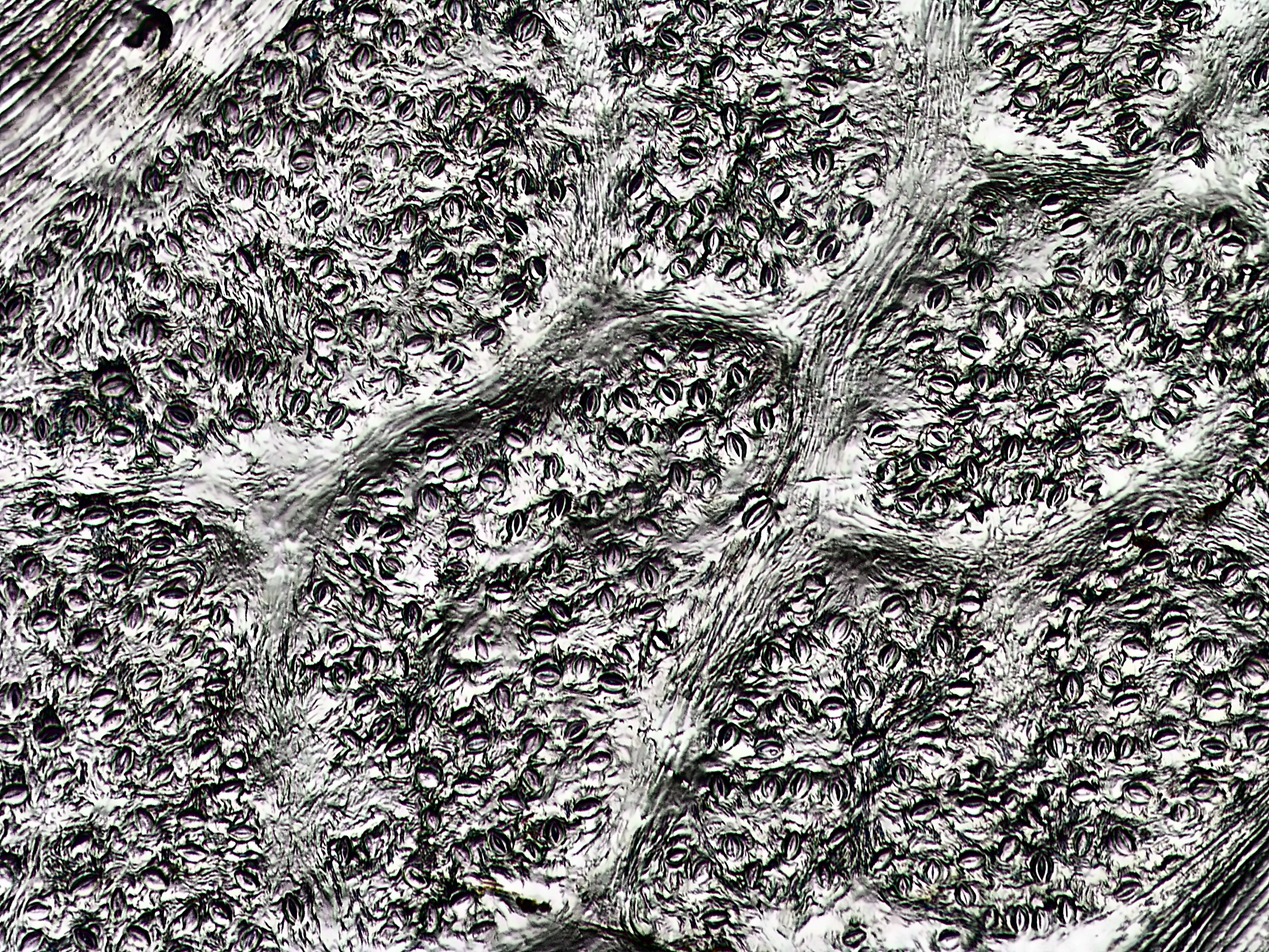stomata: (1056, 671, 1085, 705), (1170, 131, 1205, 159), (743, 499, 773, 529), (288, 24, 319, 53), (925, 280, 950, 315), (1192, 635, 1220, 666), (80, 504, 114, 529), (676, 420, 710, 445), (75, 626, 105, 654), (637, 561, 664, 592), (282, 890, 306, 924), (875, 641, 903, 670), (981, 309, 1007, 340), (1232, 468, 1258, 499), (69, 871, 100, 897), (32, 499, 64, 524), (723, 432, 748, 464), (359, 585, 384, 617), (1031, 851, 1055, 884), (929, 231, 958, 258), (572, 795, 603, 820), (1059, 215, 1094, 237), (1102, 524, 1134, 548), (209, 896, 232, 929), (668, 461, 691, 494), (382, 267, 410, 294), (1056, 64, 1086, 89), (790, 633, 815, 663), (720, 102, 742, 136), (902, 329, 936, 351), (618, 246, 642, 277), (38, 725, 69, 749), (128, 503, 160, 526), (614, 386, 640, 414), (310, 580, 336, 608), (604, 539, 626, 572), (752, 741, 785, 763), (817, 103, 846, 128), (519, 13, 543, 43), (179, 516, 203, 546), (621, 44, 644, 75), (807, 72, 838, 95), (692, 379, 715, 410), (852, 735, 883, 758), (813, 144, 835, 176), (358, 646, 380, 678), (465, 82, 491, 109), (655, 378, 681, 405), (957, 587, 985, 612), (1013, 56, 1042, 80), (969, 263, 993, 292), (1167, 227, 1191, 256), (868, 420, 897, 444), (1204, 309, 1225, 342), (176, 843, 209, 864), (420, 900, 441, 933), (829, 611, 850, 644), (878, 595, 909, 617), (790, 768, 812, 799), (708, 52, 733, 79), (1127, 127, 1154, 152), (31, 605, 56, 632), (233, 867, 260, 892), (165, 404, 193, 428), (237, 924, 261, 952), (633, 513, 661, 537), (1010, 903, 1031, 935), (441, 195, 464, 224), (144, 534, 173, 557), (446, 527, 475, 550), (350, 3, 380, 25), (1003, 362, 1025, 392), (1028, 402, 1061, 422), (209, 600, 229, 633), (423, 435, 453, 457), (1046, 730, 1068, 760), (668, 101, 694, 126), (1013, 86, 1038, 112), (1020, 333, 1047, 357), (1, 782, 28, 806), (141, 866, 168, 890), (350, 44, 373, 72), (1203, 359, 1226, 387), (97, 563, 125, 586), (178, 807, 206, 830), (603, 425, 626, 453), (762, 644, 785, 672), (997, 835, 1020, 863), (1112, 825, 1135, 853), (402, 335, 434, 355), (1145, 268, 1165, 300), (581, 386, 601, 418), (191, 131, 213, 160), (236, 246, 258, 275), (100, 377, 130, 398), (1059, 348, 1089, 369), (1022, 472, 1043, 502), (421, 485, 442, 515), (484, 580, 514, 601), (1092, 733, 1113, 763), (1203, 686, 1233, 707), (740, 25, 765, 50), (1123, 318, 1148, 343), (124, 925, 149, 950), (501, 281, 527, 305), (475, 321, 501, 345), (734, 158, 758, 184), (1179, 258, 1203, 284), (913, 454, 940, 477), (161, 584, 188, 607), (1125, 781, 1152, 804), (1191, 547, 1211, 578), (920, 713, 951, 733), (401, 601, 423, 629), (497, 791, 525, 813), (545, 817, 567, 845), (762, 772, 784, 800), (511, 89, 529, 123), (263, 60, 284, 89), (760, 118, 789, 139), (1082, 373, 1111, 394), (389, 647, 410, 676), (597, 587, 618, 616), (915, 582, 936, 611), (819, 697, 848, 718), (1123, 593, 1152, 614), (332, 661, 351, 693), (719, 721, 738, 753), (316, 357, 340, 382), (959, 335, 984, 359), (1053, 436, 1083, 456), (125, 600, 145, 630), (598, 672, 628, 692), (931, 628, 951, 658), (1161, 617, 1191, 637), (1249, 723, 1269, 753), (192, 209, 215, 235), (781, 22, 807, 45), (738, 218, 764, 241), (404, 863, 427, 889), (974, 214, 1001, 236), (346, 553, 373, 575), (723, 834, 745, 861), (383, 365, 402, 396), (152, 435, 180, 456), (816, 26, 844, 47), (501, 427, 529, 448), (530, 624, 558, 645), (910, 801, 938, 822), (1122, 638, 1150, 659), (435, 94, 455, 123), (334, 109, 354, 138), (854, 198, 874, 227), (1002, 435, 1022, 464), (90, 688, 119, 708), (489, 828, 509, 857), (1041, 630, 1070, 650), (140, 315, 157, 349), (6, 681, 23, 715), (507, 507, 524, 541), (389, 18, 407, 50), (1222, 562, 1246, 586), (73, 927, 97, 951), (410, 700, 428, 732), (415, 765, 439, 789), (420, 31, 443, 56), (990, 43, 1013, 68), (1142, 508, 1165, 533), (1241, 596, 1264, 621), (101, 710, 126, 733), (573, 654, 596, 679), (1245, 659, 1268, 684), (310, 253, 332, 279), (657, 28, 683, 50), (668, 216, 690, 242), (1169, 381, 1195, 403), (1142, 548, 1168, 570), (370, 712, 392, 738), (665, 844, 691, 866), (1099, 663, 1125, 685), (125, 243, 144, 273), (628, 170, 647, 200), (1172, 3, 1202, 22), (957, 851, 987, 870), (1049, 483, 1070, 510), (544, 453, 565, 480), (827, 779, 848, 806), (949, 678, 976, 699), (1116, 733, 1137, 760), (450, 779, 483, 796), (1206, 275, 1226, 303), (347, 510, 367, 538), (363, 308, 381, 339), (1051, 36, 1082, 54), (723, 258, 747, 281), (68, 590, 92, 613), (963, 644, 987, 667), (468, 121, 487, 150), (232, 170, 251, 199), (439, 673, 468, 692), (710, 772, 729, 801), (502, 216, 527, 238), (687, 0, 709, 25), (135, 669, 160, 691), (19, 930, 44, 952), (1115, 692, 1140, 714), (290, 150, 316, 171), (434, 274, 460, 295), (289, 390, 310, 416), (1111, 78, 1137, 99), (928, 375, 954, 396), (1093, 400, 1119, 421), (25, 557, 46, 583), (521, 730, 542, 756), (906, 673, 927, 699), (955, 881, 976, 907), (1170, 675, 1191, 701), (303, 89, 330, 109), (380, 142, 400, 169), (182, 279, 200, 309), (73, 405, 91, 435), (105, 425, 132, 445), (760, 261, 780, 288), (1055, 266, 1082, 286), (25, 902, 52, 922), (551, 490, 569, 520), (894, 760, 914, 787), (922, 858, 942, 885), (1074, 828, 1092, 858), (1070, 781, 1097, 801), (817, 233, 836, 261), (1058, 100, 1086, 119), (973, 364, 992, 392), (113, 748, 132, 776), (108, 890, 127, 918), (229, 825, 257, 844), (783, 831, 802, 859), (1058, 898, 1077, 926), (564, 719, 587, 742), (587, 750, 610, 773), (444, 0, 466, 24), (428, 303, 452, 325), (231, 408, 255, 430), (1124, 438, 1146, 462), (339, 728, 363, 750), (382, 553, 404, 577), (651, 629, 673, 653), (1155, 728, 1179, 750), (227, 351, 244, 382), (472, 253, 497, 274), (786, 220, 807, 245), (479, 471, 504, 492), (493, 683, 514, 708), (1192, 779, 1217, 800), (960, 457, 978, 486), (181, 905, 199, 934), (528, 254, 548, 280), (1160, 335, 1180, 361), (378, 522, 404, 542), (534, 666, 560, 686), (917, 743, 943, 763), (1063, 590, 1089, 610), (754, 83, 781, 102), (648, 199, 667, 226), (1201, 738, 1228, 757), (310, 198, 332, 221), (641, 348, 664, 370), (828, 827, 850, 850), (97, 252, 115, 280), (1222, 232, 1246, 253), (733, 697, 757, 718), (871, 847, 892, 871), (1032, 907, 1050, 935), (1039, 192, 1064, 212), (1039, 291, 1059, 316), (1154, 405, 1174, 430), (546, 549, 566, 574), (465, 735, 490, 755), (783, 689, 803, 714), (401, 205, 417, 236), (66, 664, 82, 695), (218, 780, 244, 799), (35, 415, 52, 444), (817, 861, 834, 890), (220, 97, 238, 124), (1107, 259, 1125, 286), (745, 861, 763, 888), (668, 258, 690, 280), (0, 729, 22, 751), (356, 694, 378, 716), (548, 598, 570, 620), (963, 796, 986, 817), (423, 153, 443, 177), (350, 172, 374, 192), (165, 357, 185, 381), (678, 147, 702, 167), (1160, 67, 1176, 97), (897, 496, 921, 516), (473, 921, 497, 941), (1133, 229, 1150, 257), (398, 98, 417, 123), (326, 404, 345, 429), (1010, 294, 1029, 319), (1208, 210, 1227, 235), (801, 0, 827, 18), (857, 675, 875, 701), (475, 174, 497, 195), (767, 181, 788, 203), (1137, 52, 1158, 74), (1000, 789, 1021, 811), (422, 808, 442, 831), (938, 929, 961, 949), (281, 120, 298, 147), (1093, 292, 1110, 319), (314, 320, 338, 339), (564, 142, 583, 166), (378, 488, 402, 507), (450, 892, 474, 911), (1, 407, 16, 437), (337, 835, 352, 865), (981, 905, 999, 930), (550, 177, 567, 203), (248, 353, 265, 379), (704, 227, 721, 253), (758, 406, 775, 432), (188, 341, 209, 362), (153, 706, 174, 727), (613, 644, 634, 665), (369, 87, 389, 109), (328, 284, 350, 304), (691, 194, 711, 216), (152, 766, 174, 786), (166, 232, 185, 255), (444, 352, 463, 375), (880, 459, 899, 482), (51, 767, 74, 786), (691, 340, 714, 359), (700, 474, 719, 497), (260, 175, 278, 199), (179, 636, 197, 660), (730, 363, 748, 387), (451, 842, 469, 866), (1115, 884, 1139, 902), (1244, 306, 1261, 331), (951, 405, 976, 422), (694, 860, 711, 885), (424, 244, 445, 264), (689, 60, 704, 88), (1255, 338, 1269, 368), (940, 769, 960, 790), (894, 875, 913, 897), (703, 909, 729, 925), (1067, 0, 1090, 18), (282, 270, 299, 294), (386, 737, 406, 757), (926, 427, 947, 446), (225, 752, 246, 771), (523, 768, 541, 790), (523, 841, 541, 863), (5, 296, 22, 319), (930, 491, 947, 514), (368, 218, 383, 244), (1114, 112, 1138, 128), (639, 602, 663, 618), (208, 647, 227, 667), (1100, 570, 1120, 589), (977, 0, 1004, 14), (331, 633, 349, 654), (421, 620, 442, 638), (1256, 61, 1269, 90), (474, 635, 489, 660), (585, 492, 602, 514), (844, 929, 866, 946), (204, 678, 227, 694), (247, 120, 261, 146), (220, 304, 235, 328), (452, 708, 472, 726), (445, 560, 469, 575), (51, 337, 68, 358), (962, 508, 983, 525), (1171, 800, 1186, 823), (147, 172, 165, 191), (32, 258, 48, 279), (855, 51, 874, 68), (483, 146, 506, 160), (1140, 0, 1161, 15), (154, 268, 168, 290), (1255, 402, 1269, 424), (975, 761, 991, 780), (515, 169, 528, 192), (847, 0, 874, 11), (1252, 691, 1269, 708), (1038, 780, 1054, 798), (65, 229, 81, 246)
